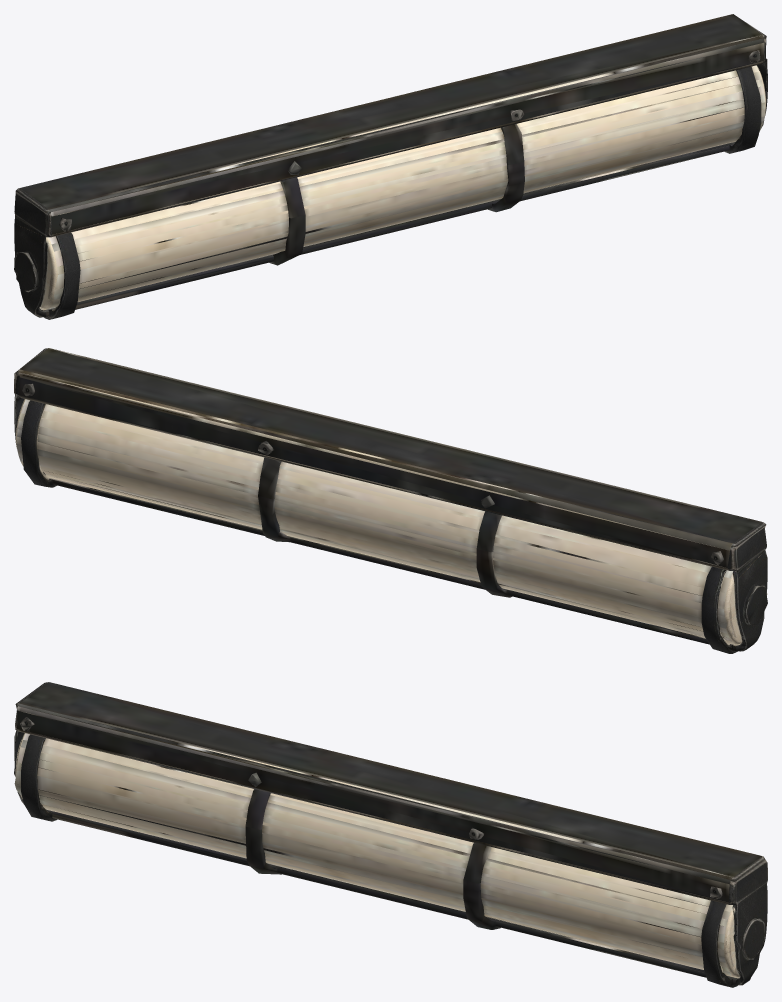
The model's file is light-lod2-t25.glb.
3 views of the same model, one above another, from view 1: azimuth 30°, elevation 25°; view 2: azimuth 150°, elevation 25°; view 3: azimuth 330°, elevation 25° (orthographic).
Visible parts, largest first — view 1: light-lod2-t25; view 2: light-lod2-t25; view 3: light-lod2-t25.
Part boxes in pixels (bbox=[...]): light-lod2-t25: bbox=[14, 14, 767, 319]; light-lod2-t25: bbox=[14, 348, 767, 653]; light-lod2-t25: bbox=[14, 682, 767, 987].
Bounding box in the file's own units: 1.2 × 0.1905 × 0.1315.
Materials: 1 (1 with a texture image).
